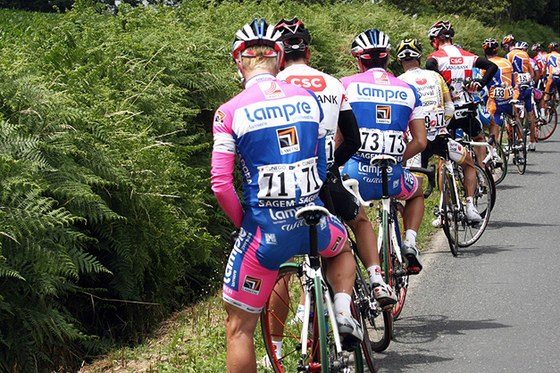with_helmet: (233, 23, 282, 62), (352, 28, 389, 55)
